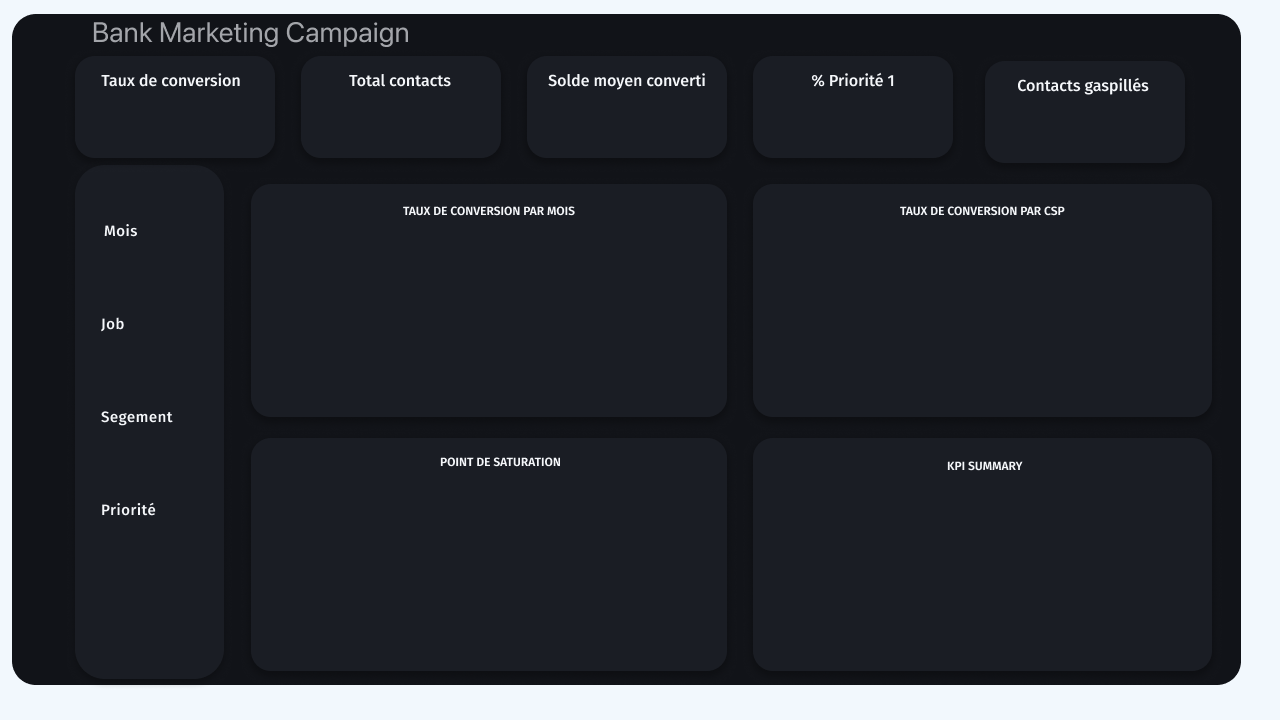

What the dashboard file says about the page in this screenshot:
{"tool":"powerbi","page":{"name":"Overview","canvas":[1280,720],"ordinal":0},"visuals":[{"type":"card","fields":{"Values":["Mesures.Taux_Conversion"]},"box":[75,70,185,88.3],"z":0},{"type":"card","fields":{"Values":["Mesures.Total_Contacts"]},"box":[313.3,71.7,185,88.3],"z":1000},{"type":"card","fields":{"Values":["Mesures.Solde_Moyen_Convertis"]},"box":[528.3,73.3,185,88.3],"z":2000},{"type":"card","fields":{"Values":["Mesures.Pct_Priorite1"]},"box":[758.3,75,185,88.3],"z":3000},{"type":"card","fields":{"Values":["Mesures.Duree_Moy_Appel"]},"box":[988.8,75,185,88.8],"z":4000},{"type":"lineClusteredColumnComboChart","title":"Taux de conversion par mois","fields":{"Category":["D_Calendar.Nom du mois"],"Y2":["Mesures.Moyenne_Globale"],"Y":["Mesures.Taux_Conv_Contexte"]},"box":[248.3,210,465,203.3],"z":5000},{"type":"clusteredBarChart","title":"Taux de conversion par CSP","fields":{"Category":["bank_scored.job"],"Y":["Mesures.Taux_Conv_Contexte"]},"box":[758.3,208.3,443.3,205],"z":6000},{"type":"lineClusteredColumnComboChart","title":"Point de saturation","fields":{"Y":["Mesures.Taux_Conv_Contexte"],"Category":["bank_scored.campaign"],"Y2":["Mesures.Volume_Contacts"]},"box":[260,446.7,465,206.7],"z":7000},{"type":"pivotTable","fields":{"Rows":["bank_scored.Priorite_Label"],"Values":["Mesures.Volume_Contacts","Mesures.Pct_Clients_Priorite","Mesures.Taux_Conv_Contexte","Mesures.Score_Moyen"]},"box":[785,471.7,425,200],"z":8000},{"type":"slicer","fields":{"Values":["D_Calendar.Nom du mois"]},"box":[75,246.7,146.7,48.3],"z":9000},{"type":"slicer","fields":{"Values":["bank_scored.job"]},"box":[66.7,345,155,51.7],"z":10000},{"type":"slicer","fields":{"Values":["bank_scored.segment"]},"box":[66.7,435,155,51.7],"z":11000},{"type":"slicer","fields":{"Values":["bank_scored.priorite"]},"box":[76.7,523.3,145,51.7],"z":12000}]}

Visuals, with their boxes in screenshot pixels (x1, y1, x2, y2), scaled from the page's 1280x720 canvas onto the 1280x720 screenshot:
card - Mesures.Taux_Conversion: (x1=75, y1=70, x2=260, y2=158)
card - Mesures.Total_Contacts: (x1=313, y1=72, x2=498, y2=160)
card - Mesures.Solde_Moyen_Convertis: (x1=528, y1=73, x2=713, y2=162)
card - Mesures.Pct_Priorite1: (x1=758, y1=75, x2=943, y2=163)
card - Mesures.Duree_Moy_Appel: (x1=989, y1=75, x2=1174, y2=164)
"Taux de conversion par mois" lineClusteredColumnComboChart: (x1=248, y1=210, x2=713, y2=413)
"Taux de conversion par CSP" clusteredBarChart: (x1=758, y1=208, x2=1202, y2=413)
"Point de saturation" lineClusteredColumnComboChart: (x1=260, y1=447, x2=725, y2=653)
pivotTable - bank_scored.Priorite_Label x Mesures.Volume_Contacts: (x1=785, y1=472, x2=1210, y2=672)
slicer - D_Calendar.Nom du mois: (x1=75, y1=247, x2=222, y2=295)
slicer - bank_scored.job: (x1=67, y1=345, x2=222, y2=397)
slicer - bank_scored.segment: (x1=67, y1=435, x2=222, y2=487)
slicer - bank_scored.priorite: (x1=77, y1=523, x2=222, y2=575)
